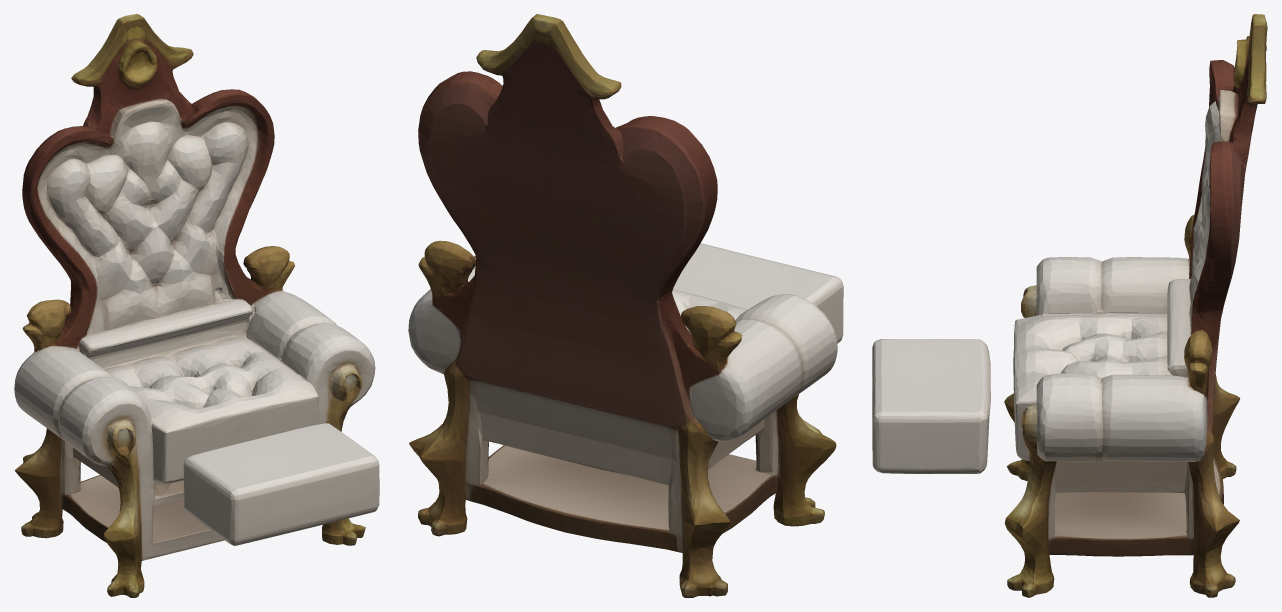
The model's file is arm_chair.glb.
The picture shows the model from 3 angles, left to right: view 1: azimuth 30°, elevation 25°; view 2: azimuth 150°, elevation 25°; view 3: azimuth 270°, elevation 25°; orthographic projection. The views are drawn at different scales.
Parts seen in each view (by area): view 1: world; view 2: world; view 3: world.
Part boxes in pixels (x1=…): world: x1=14, y1=14, x2=379, y2=597; world: x1=408, y1=14, x2=843, y2=597; world: x1=872, y1=14, x2=1267, y2=597.
Bounding box in the file's own units: 0.6511 × 0.9996 × 0.6992.
Materials: 1 (1 with a texture image).
